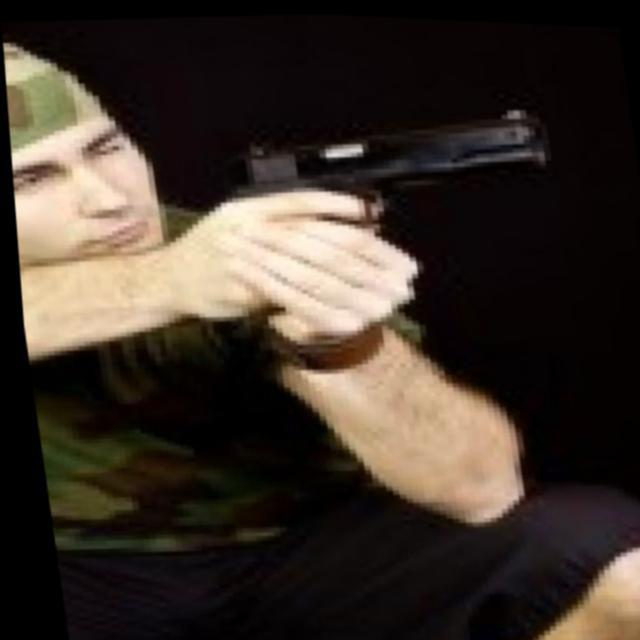weapon: (197, 84, 576, 382)
